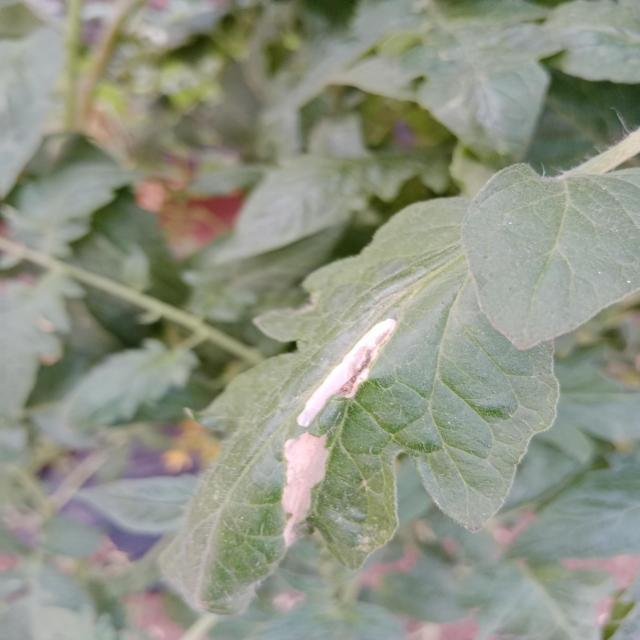Tuta absoluta: (290, 310, 409, 440), (280, 432, 330, 548)
